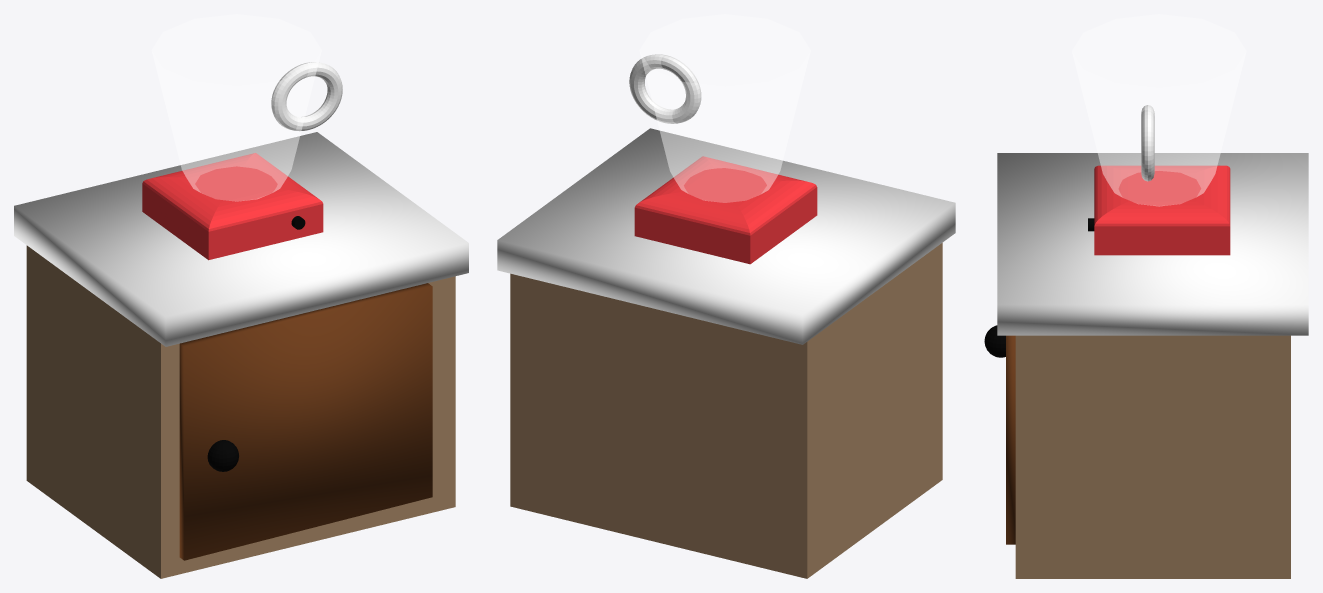
Rendered from cube_right_mixer.glb.
The picture shows the model from 3 angles, left to right: view 1: azimuth 30°, elevation 25°; view 2: azimuth 150°, elevation 25°; view 3: azimuth 270°, elevation 25°; orthographic projection. The views are drawn at different scales.
Visible parts, largest first — view 1: Cylinder.003; view 2: Cylinder.003; view 3: Cylinder.003.
Boxes of the visible parts, box(x1,y1,x2,y2) form: Cylinder.003: box(14, 14, 468, 578); Cylinder.003: box(497, 14, 955, 578); Cylinder.003: box(984, 14, 1308, 578).
Size of the model in its own units: 2.61 by 3.63 by 2.35.
